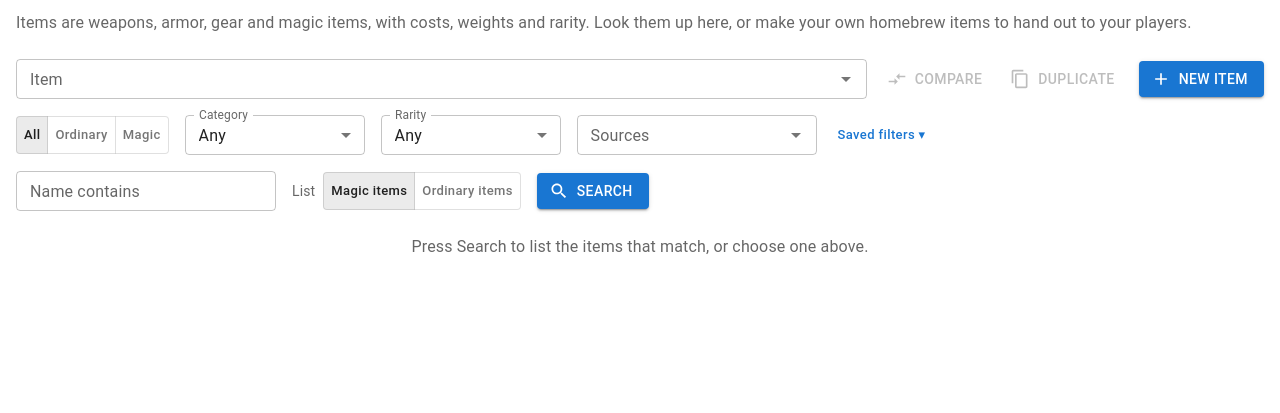
Test: listing items as a table › lists the ordinary items instead, which have no rarity to ask for
Select "Rare" in the dropdown labelled "Rarity" at (471, 135), box [381,115,561,155]
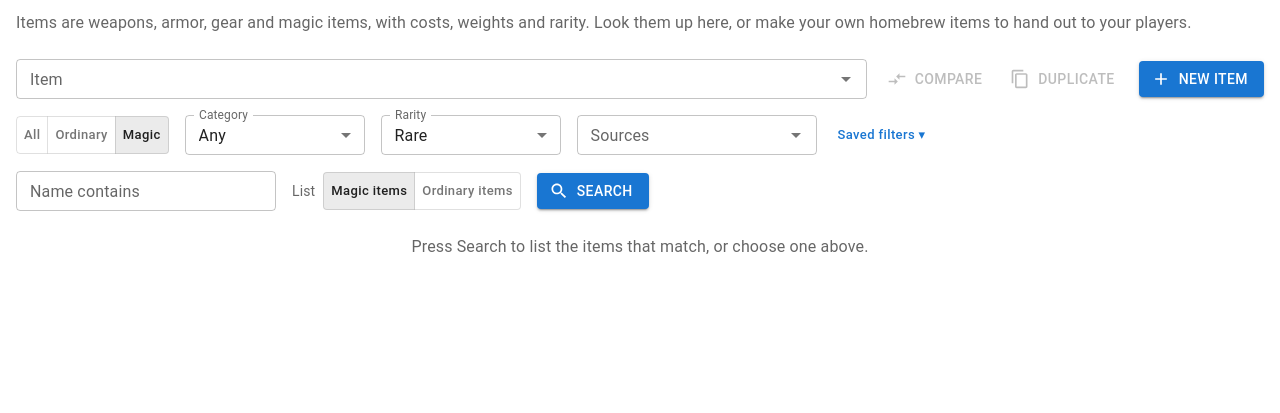
Click the button "Ordinary items" at (468, 191), box [414,172,521,210]
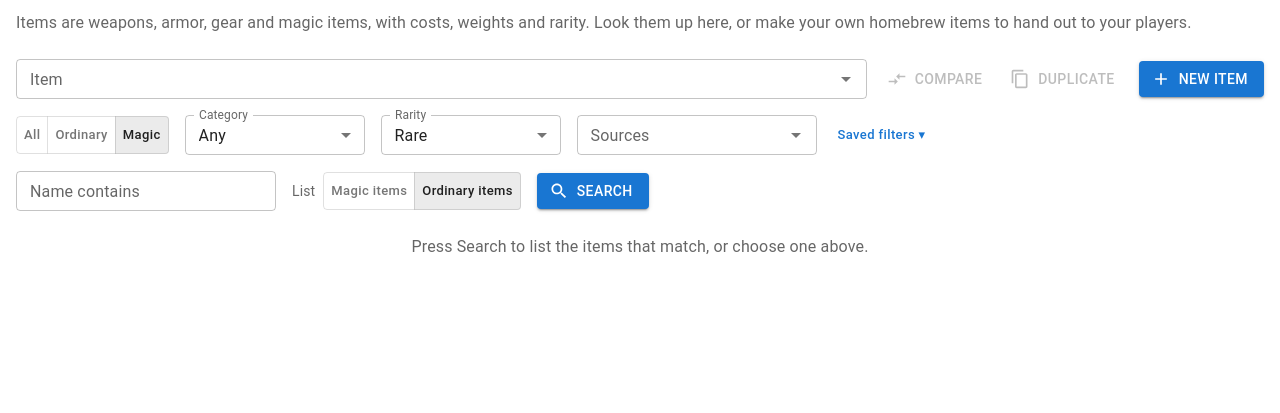
Click the button "Search" at (593, 191), box [537,173,649,209]
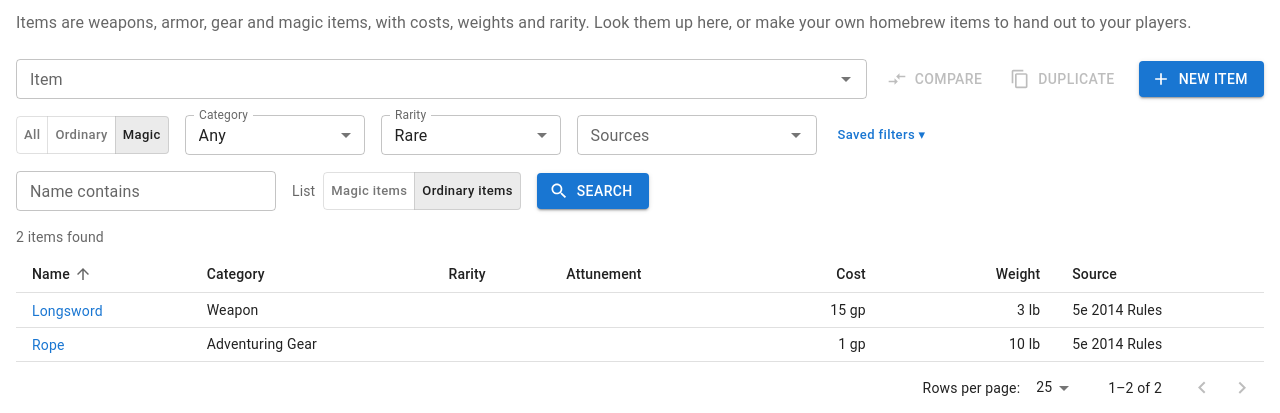
expect the table named "Item results" is shown: met, box [16,255,1264,362]
